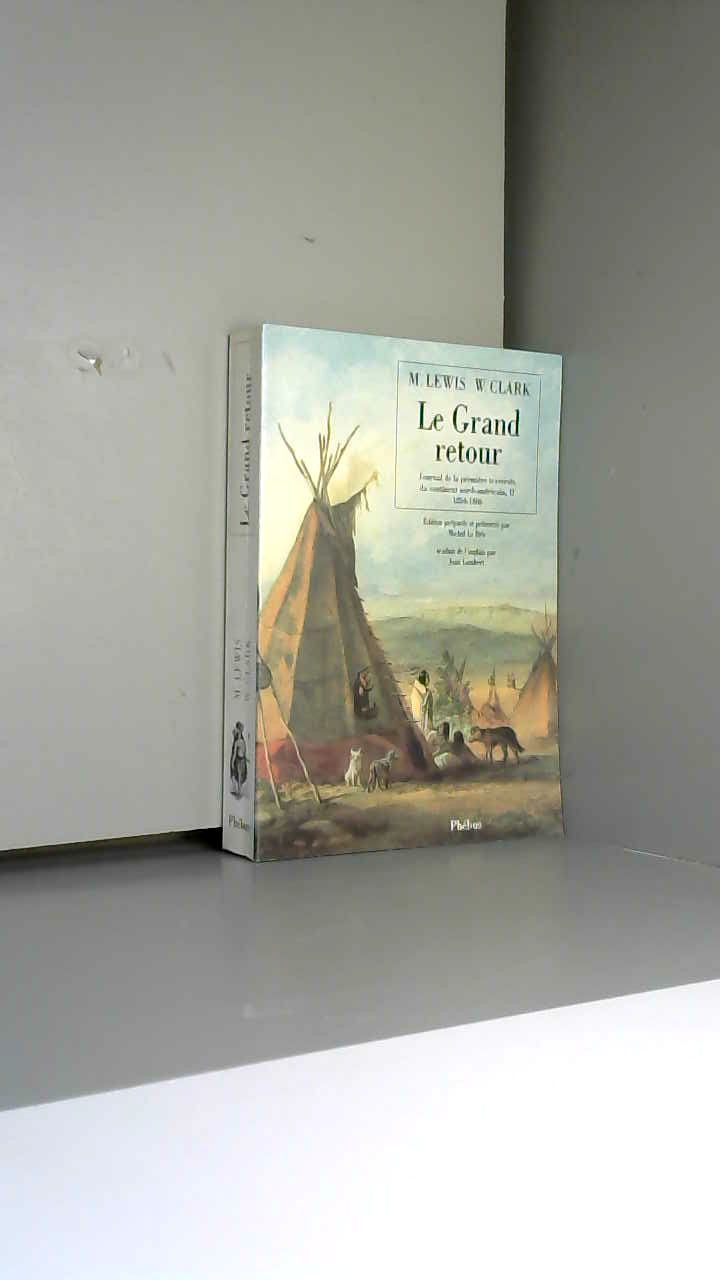book: (188, 287, 612, 900)
